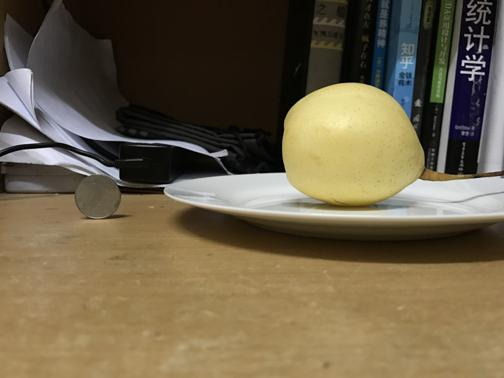coin: (76, 173, 121, 220)
pear: (280, 84, 424, 206)
